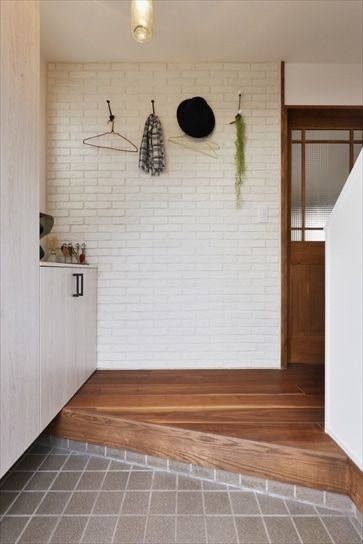floor: (0, 443, 362, 543)
